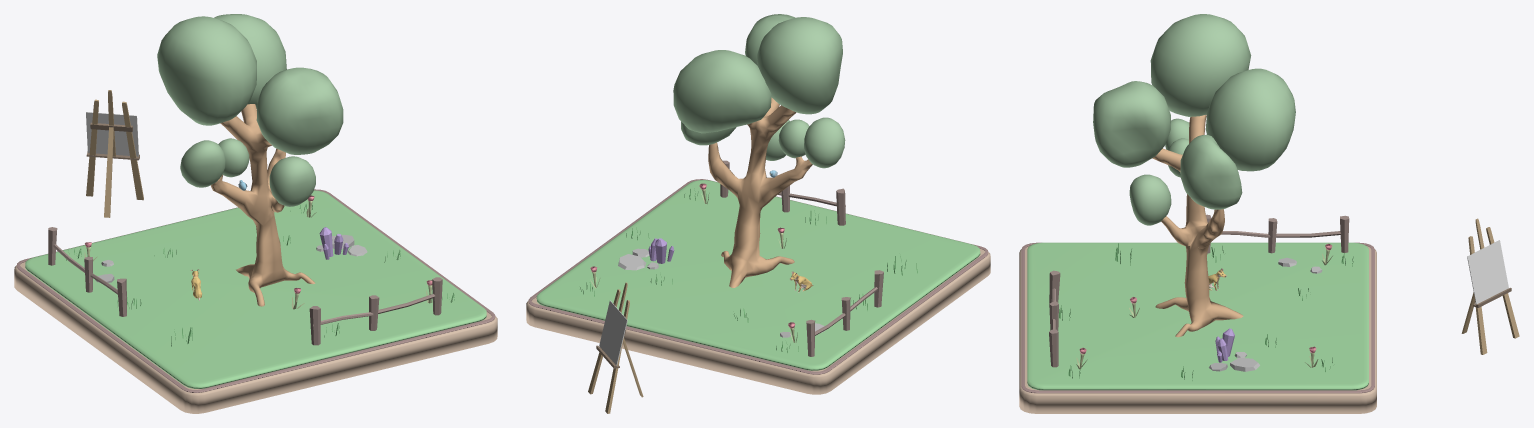
The model's file is canvas.gltf.
The picture shows the model from 3 angles, left to right: view 1: azimuth 30°, elevation 25°; view 2: azimuth 150°, elevation 25°; view 3: azimuth 270°, elevation 25°; orthographic projection. The views are drawn at different scales.
Visible parts, largest first — view 1: grass_ground, tree_leaves, platform, tree_trunk, rim, fence, canvas_legs, canvas.001, Cylinder, Cylinder.001, canvas_holder; view 2: grass_ground, tree_leaves, platform, tree_trunk, rim, fence, canvas.001, canvas_legs, Cylinder, Cylinder.001, grass; view 3: grass_ground, tree_leaves, platform, tree_trunk, rim, fence, canvas.001, canvas_legs, Cylinder, Cylinder.001.
Part boxes in pixels (x1,y1,x2,y2): grass_ground: (25,190,486,388); tree_leaves: (157,14,343,206); platform: (14,262,497,413); tree_trunk: (211,104,315,306); rim: (16,189,495,392); fence: (48,227,442,345); canvas_legs: (86,90,143,217); canvas.001: (86,112,138,156); Cylinder: (95,235,367,282); Cylinder.001: (319,227,348,259); canvas_holder: (86,122,139,160); grass_ground: (536,180,980,370); tree_leaves: (673,14,845,168); platform: (526,249,990,394); tree_trunk: (708,97,812,287); rim: (528,179,988,374); fence: (720,160,883,356); canvas.001: (599,300,627,365); canvas_legs: (588,282,643,413); Cylinder: (618,248,825,337); Cylinder.001: (648,238,674,263); grass: (580,188,917,352); grass_ground: (1027,242,1368,390); tree_leaves: (1093,14,1295,225); platform: (1019,246,1376,413); tree_trunk: (1152,114,1243,337); rim: (1021,242,1374,393); fence: (1049,214,1349,367); canvas.001: (1467,240,1508,304); canvas_legs: (1461,218,1519,354); Cylinder: (1209,257,1322,371); Cylinder.001: (1215,328,1234,362).
Bounding box in the file's own units: 15.35 × 14.06 × 21.47.
